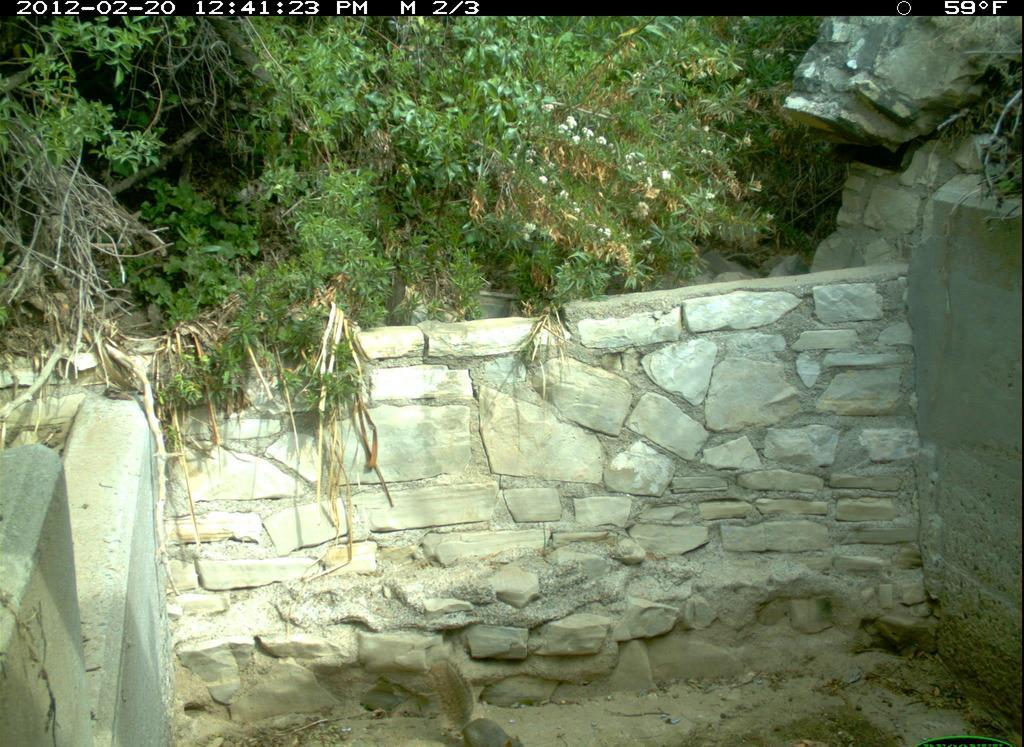squirrel: (423, 647, 534, 747)
